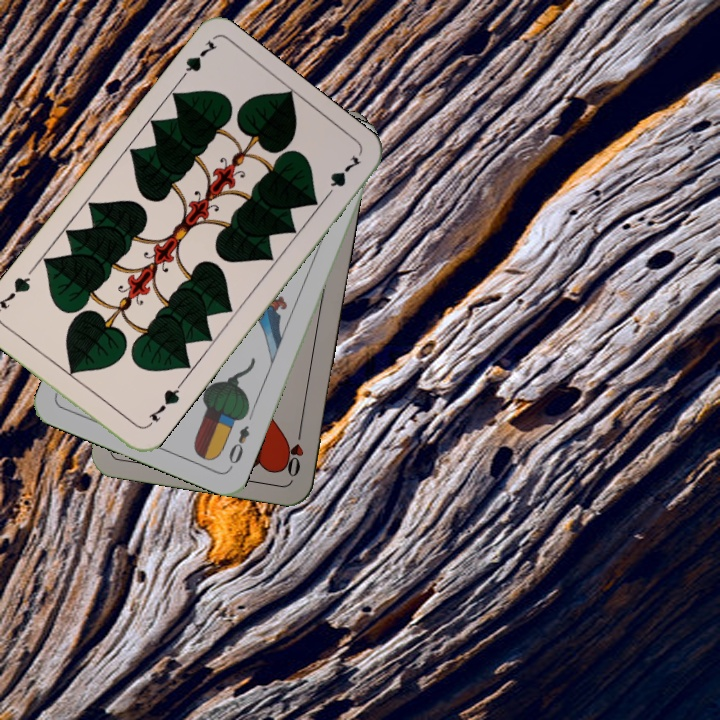EO: (224, 421, 252, 472)
G7: (173, 36, 220, 87), (141, 381, 183, 431)
HO: (281, 421, 307, 479)
